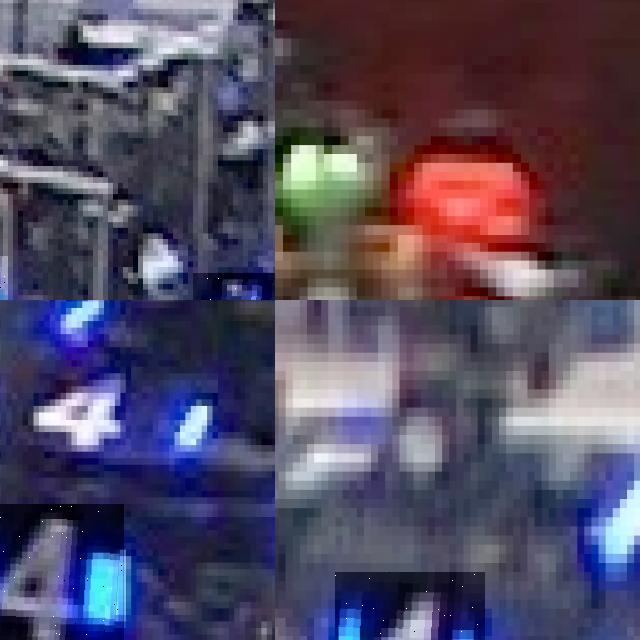B2: (193, 273, 275, 300)
B4: (0, 353, 212, 484), (0, 504, 125, 640), (335, 572, 484, 640)
